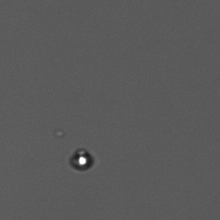Living Cell: (67, 147, 96, 173)
